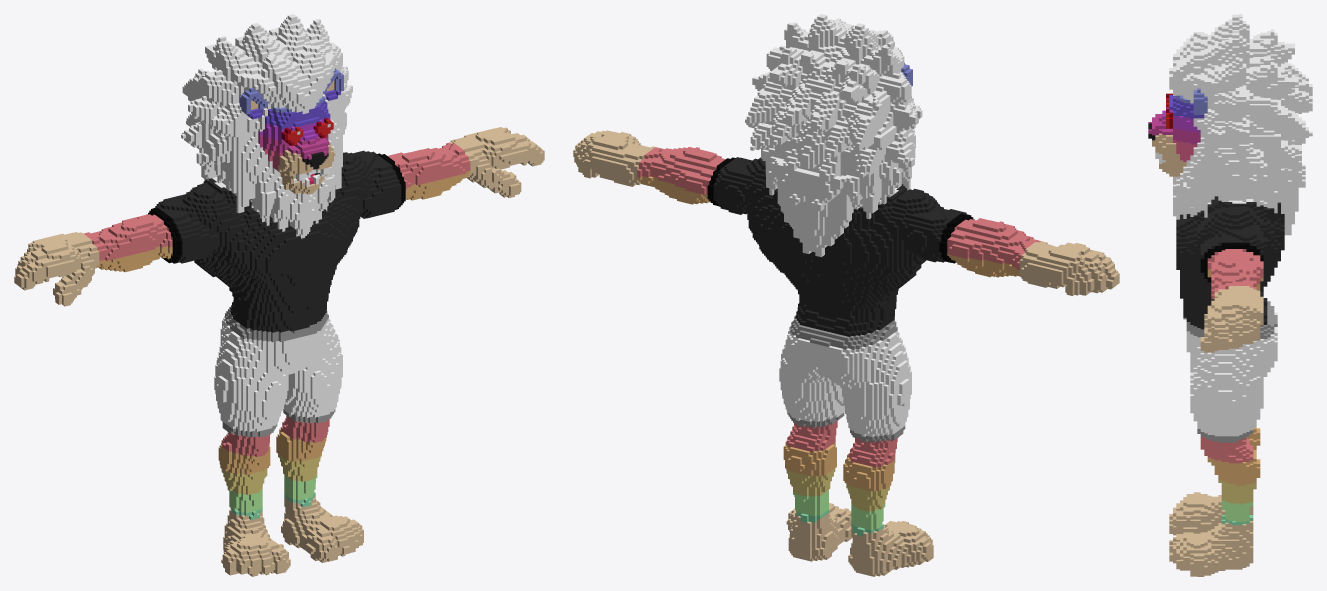
3 renders of one model, left to right at view 1: azimuth 30°, elevation 25°; view 2: azimuth 150°, elevation 25°; view 3: azimuth 270°, elevation 25°, orthographic. The views are drawn at different scales.
Visible parts, largest first — view 1: open; view 2: open; view 3: open.
Boxes of the visible parts, bbox=[...] form: open: bbox=[14, 14, 544, 576]; open: bbox=[573, 14, 1119, 576]; open: bbox=[1148, 14, 1312, 576].
Bounding box in the file's own units: 17.2 × 16.5 × 4.7.
Materials: 5 (5 with a texture image).
